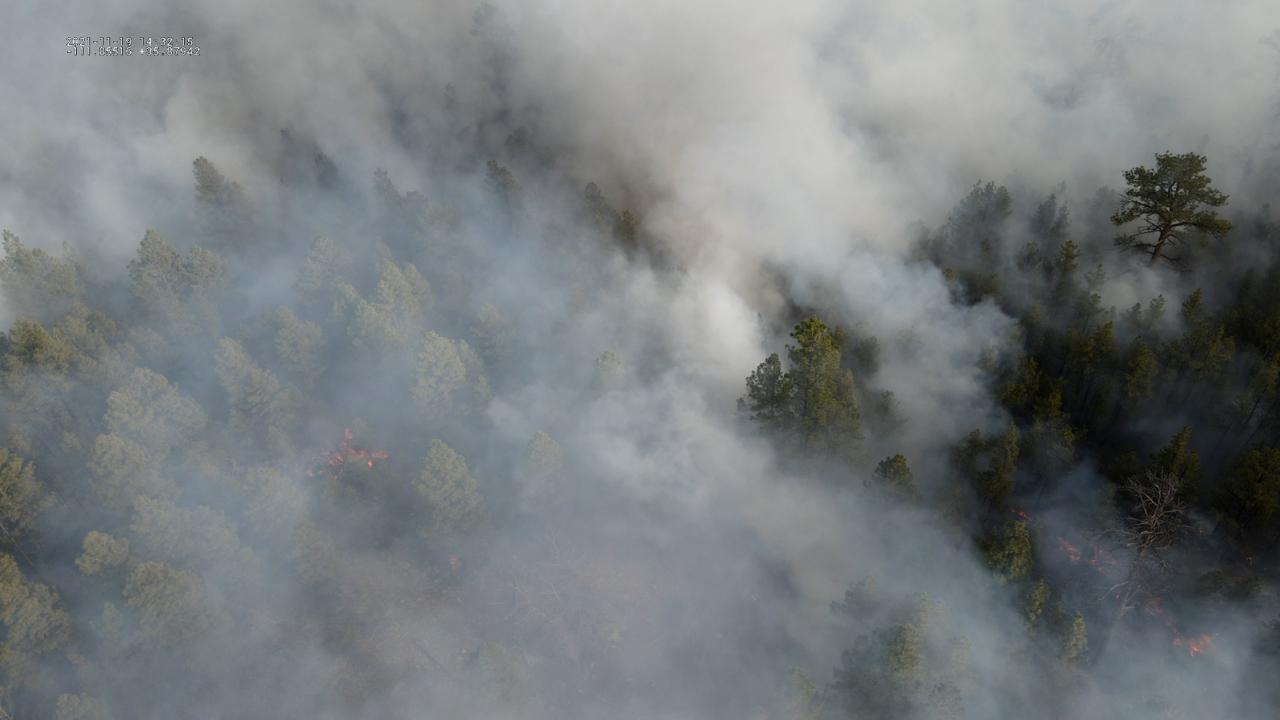fire: (319, 426, 389, 471), (1056, 533, 1120, 577), (1170, 634, 1214, 659), (302, 464, 314, 478), (1017, 511, 1026, 516), (1009, 508, 1016, 513)
smoke: (0, 0, 1280, 720)
